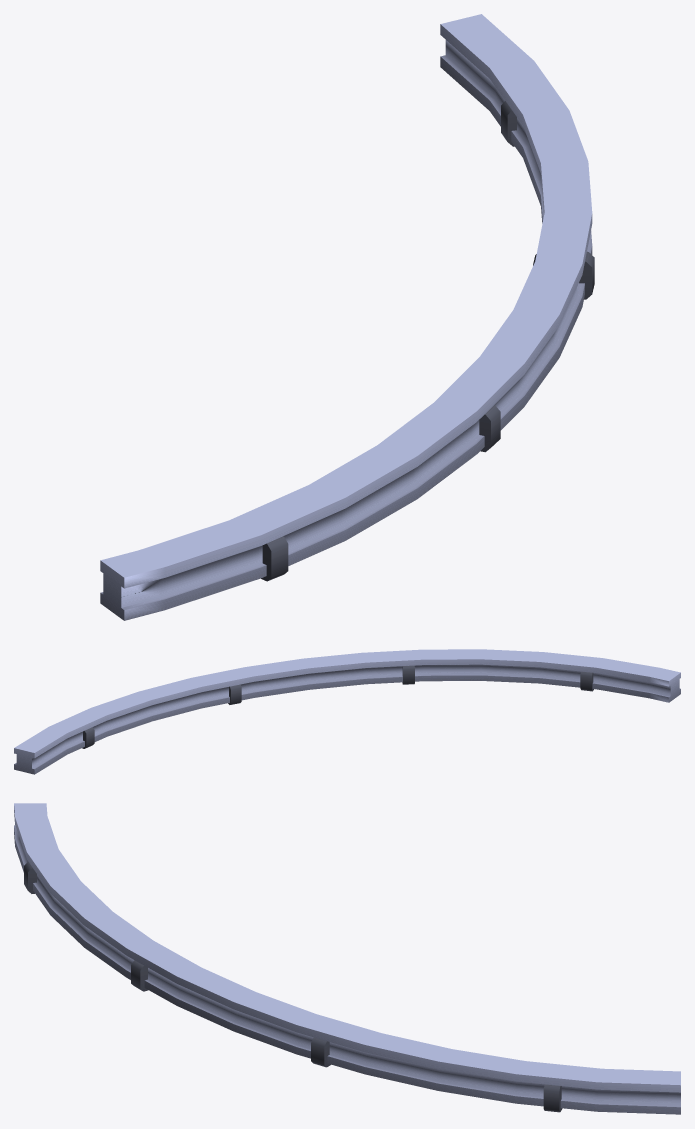
Rendered from coaster-monorail-corner-large.glb.
3 renders of one model, top to bottom at view 1: azimuth 30°, elevation 25°; view 2: azimuth 150°, elevation 25°; view 3: azimuth 270°, elevation 25°, orthographic. The views are drawn at different scales.
Visible parts, largest first — view 1: coaster-monorail-corner-large; view 2: coaster-monorail-corner-large; view 3: coaster-monorail-corner-large.
Boxes of the visible parts, x1,y1,x2,y2 form: coaster-monorail-corner-large: (100,14,594,620); coaster-monorail-corner-large: (14,649,680,774); coaster-monorail-corner-large: (14,803,680,1114).
Size of the model in its own units: 12.3 by 0.675 by 12.3.
Materials: 1 (1 with a texture image).
